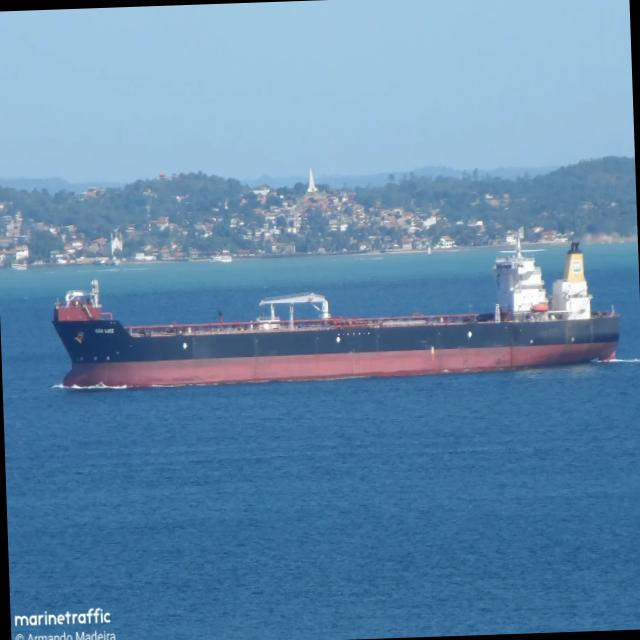Tanker: (52, 235, 619, 388)
